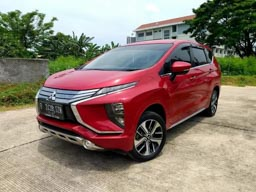plat: (39, 102, 64, 121)
